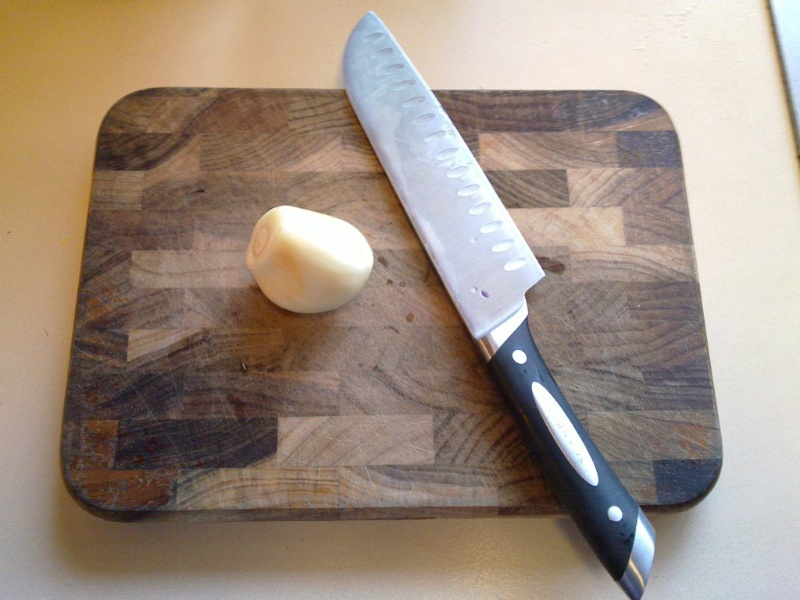axe: (368, 149, 800, 471)
